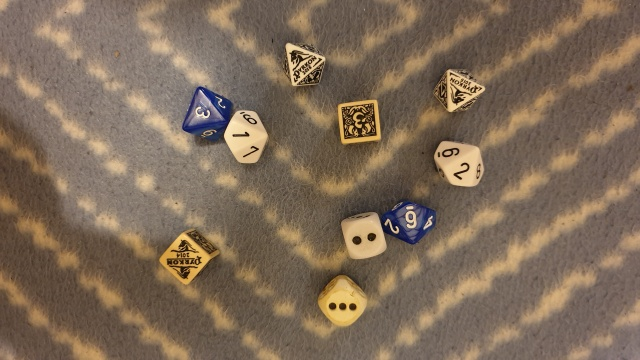d10-1: (222, 104, 274, 169)
d10-2: (428, 134, 489, 192)
d10-3: (177, 83, 234, 147)
d10-6: (378, 196, 441, 248)
d6-2: (336, 205, 391, 260)
d6-3: (311, 272, 368, 331)
d6p-1: (155, 229, 223, 289)
d6p-3: (335, 94, 386, 149)
d8p-1: (432, 59, 488, 121), (274, 37, 331, 92)
